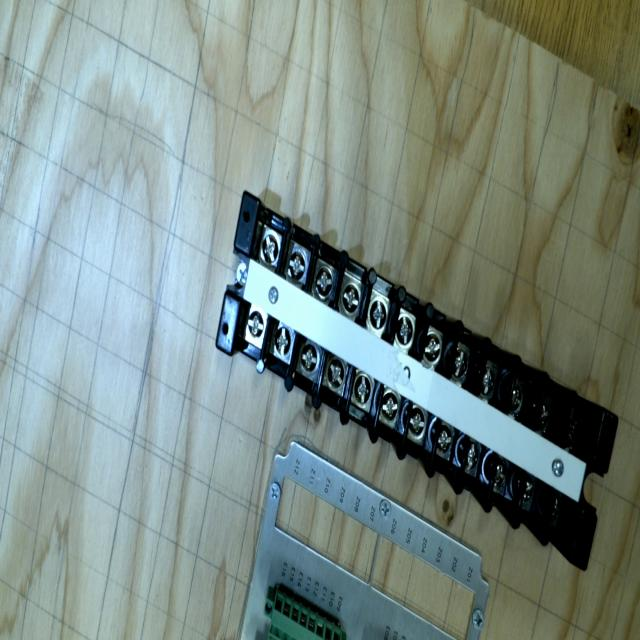Phillips_Block: (168, 191, 640, 571)
